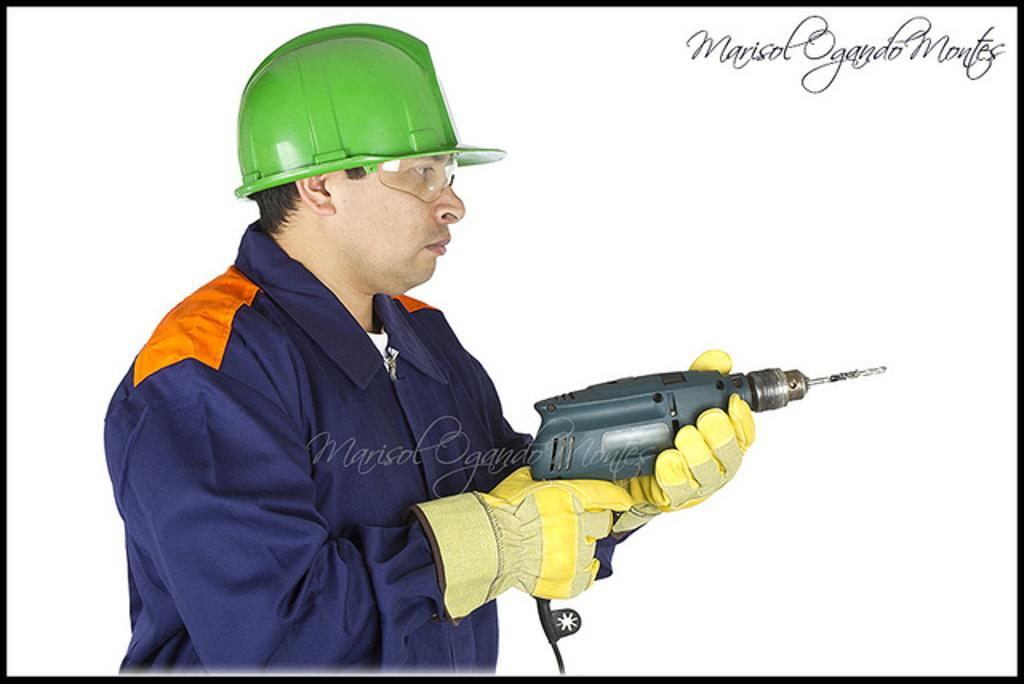face: (310, 90, 460, 288)
